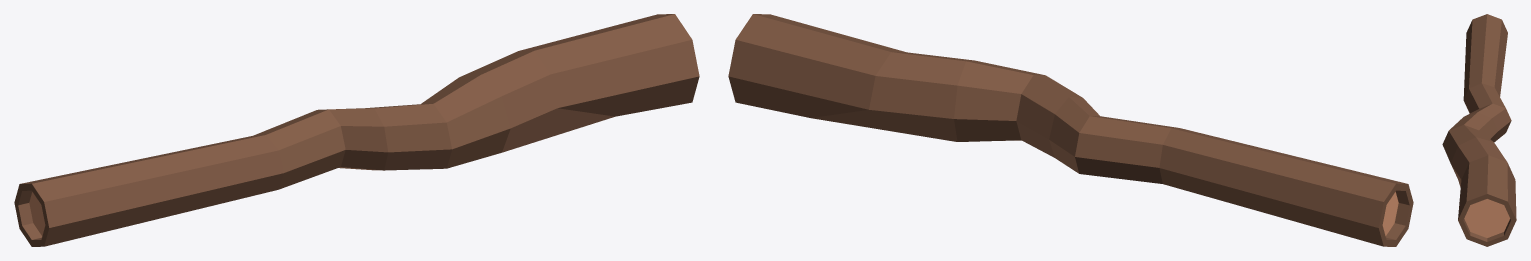
The model's file is Log2.fbx.
3 views of the same model, side by side, from view 1: azimuth 30°, elevation 25°; view 2: azimuth 150°, elevation 25°; view 3: azimuth 270°, elevation 25° (orthographic). The views are drawn at different scales.
Parts seen in each view (by area): view 1: Circle; view 2: Circle; view 3: Circle.
Part boxes in pixels (box(x1,y1,x2,y2)): Circle: box(14, 14, 699, 246); Circle: box(728, 14, 1413, 246); Circle: box(1442, 14, 1516, 246).
Bounding box in the file's own units: 2461 × 325 × 411.
